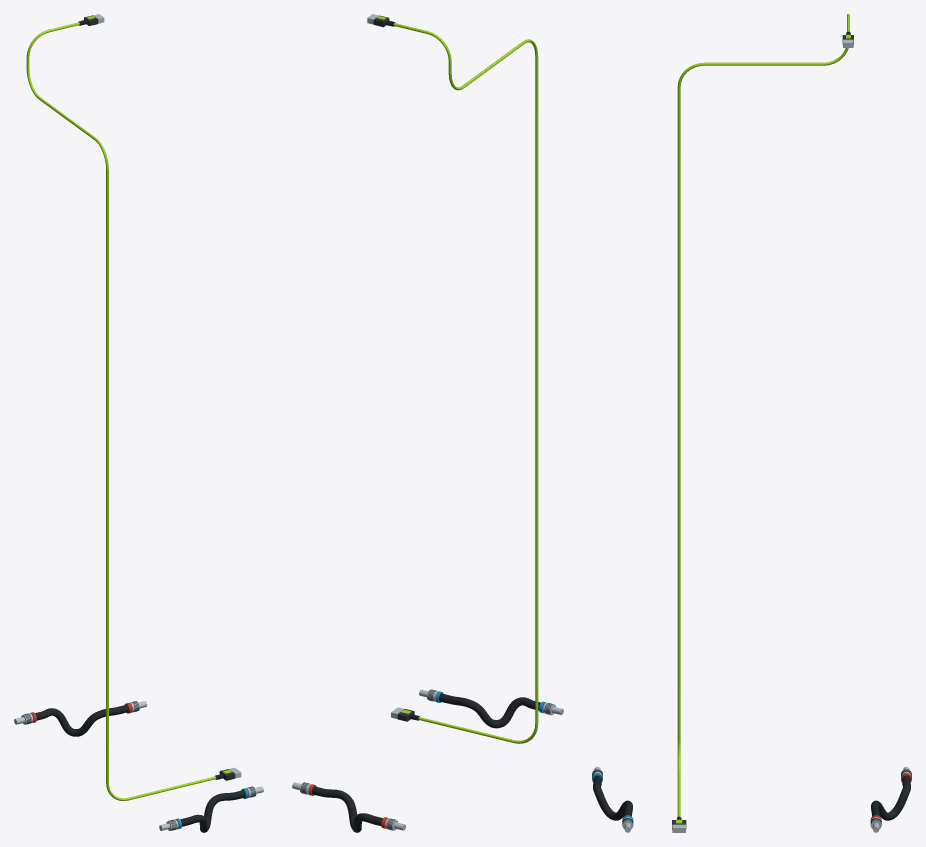
Rendered from SM_GJ_Harness_02.fbx.
3 renders of one model, left to right at view 1: azimuth 30°, elevation 25°; view 2: azimuth 150°, elevation 25°; view 3: azimuth 270°, elevation 25°, orthographic. The views are drawn at different scales.
Parts seen in each view (by area): view 1: SM_GJ_Harness_02; view 2: SM_GJ_Harness_02; view 3: SM_GJ_Harness_02.
Boxes of the visible parts, x1=… form: SM_GJ_Harness_02: x1=14, y1=14, x2=263, y2=832; SM_GJ_Harness_02: x1=292, y1=14, x2=563, y2=832; SM_GJ_Harness_02: x1=592, y1=14, x2=911, y2=832.
Size of the model in its own units: 25.73 by 50.76 by 137.
